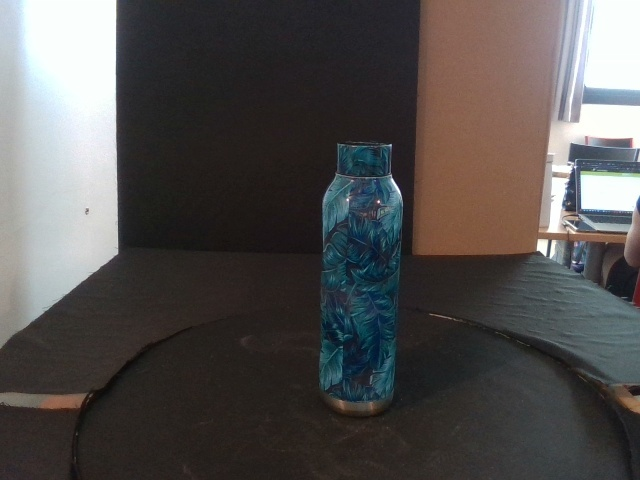bottle: (323, 141, 403, 417)
